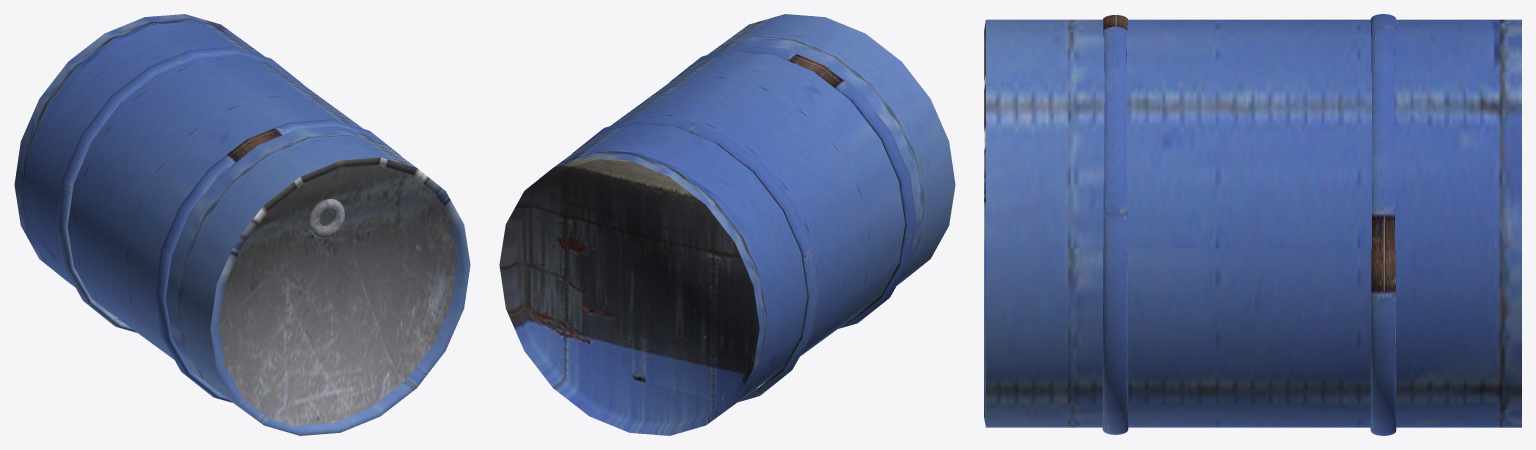
The model's file is ton.obj.
The picture shows the model from 3 angles, left to right: view 1: azimuth 30°, elevation 25°; view 2: azimuth 150°, elevation 25°; view 3: azimuth 270°, elevation 25°; orthographic projection. The views are drawn at different scales.
Parts seen in each view (by area): view 1: ton, pasted__ring group, ring, deckel; view 2: ton, pasted__ring group, ring; view 3: ton, ring, pasted__ring group.
Boxes of the visible parts, x1,y1,x2,y2 form: ton: (14,14,470,435); pasted__ring group: (56,47,303,332); ring: (154,119,401,402); deckel: (308,199,344,237); ton: (499,14,955,435); pasted__ring group: (572,116,818,402); ring: (669,45,916,328); ton: (984,19,1521,427); ring: (1102,15,1128,434); pasted__ring group: (1370,14,1396,435).
Size of the model in its own units: 9.86 by 9.85 by 12.46.
